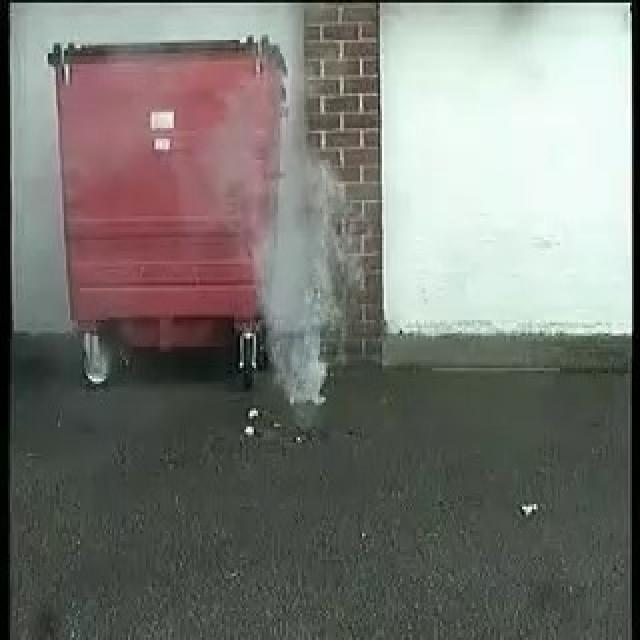smoke: (262, 120, 338, 412)
